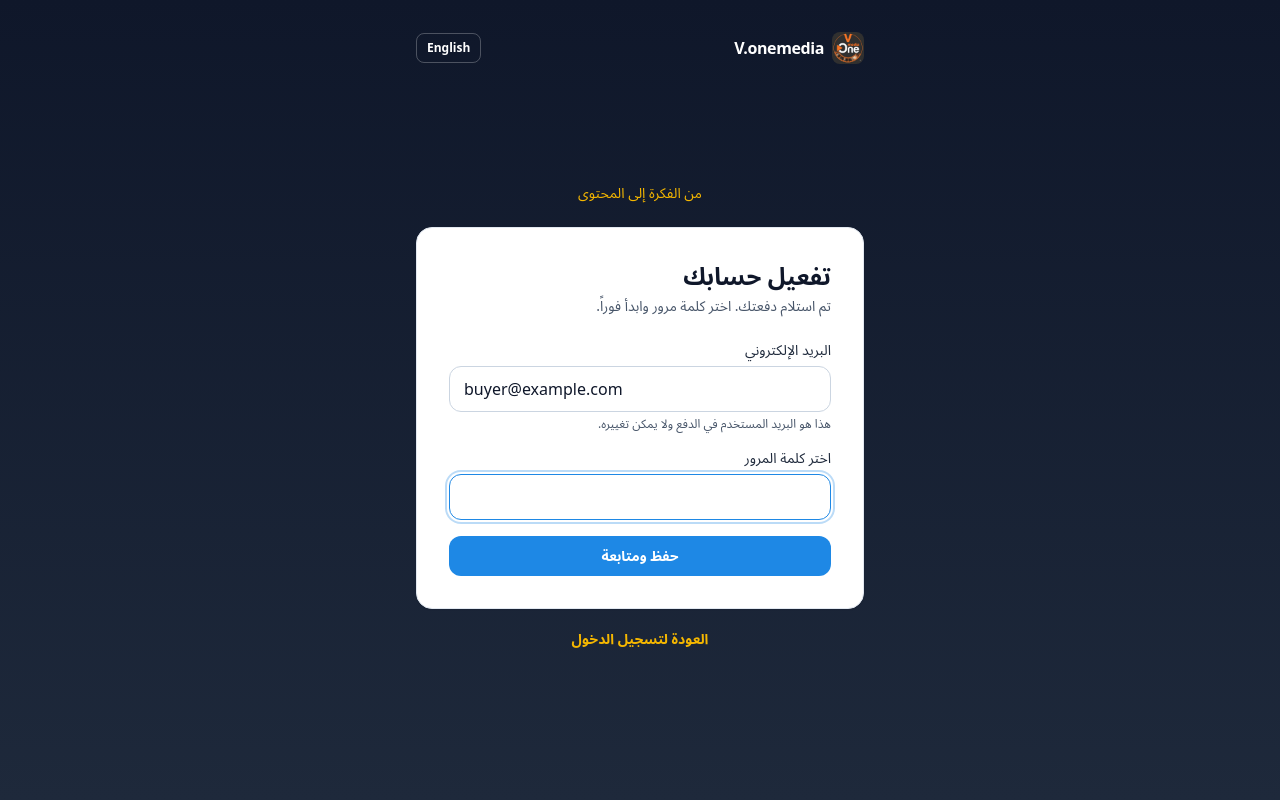
it: activation form › rejects a short password without spending the charge on a round trip
Step 1. Type "short" into the password field labelled "اختر كلمة المرور" → coordinates (640, 497), box [449, 474, 831, 520]
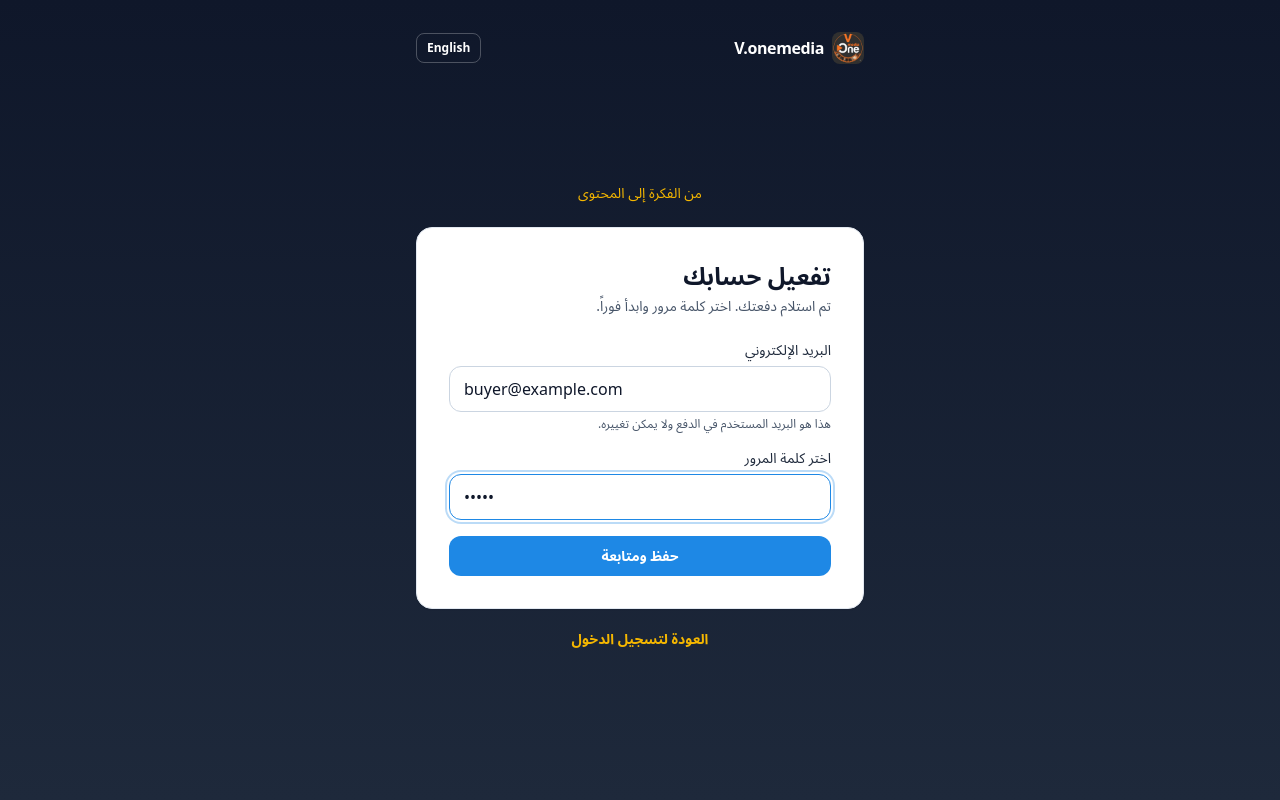
Step 2. Click the button "حفظ ومتابعة" → coordinates (640, 556), box [449, 536, 831, 576]
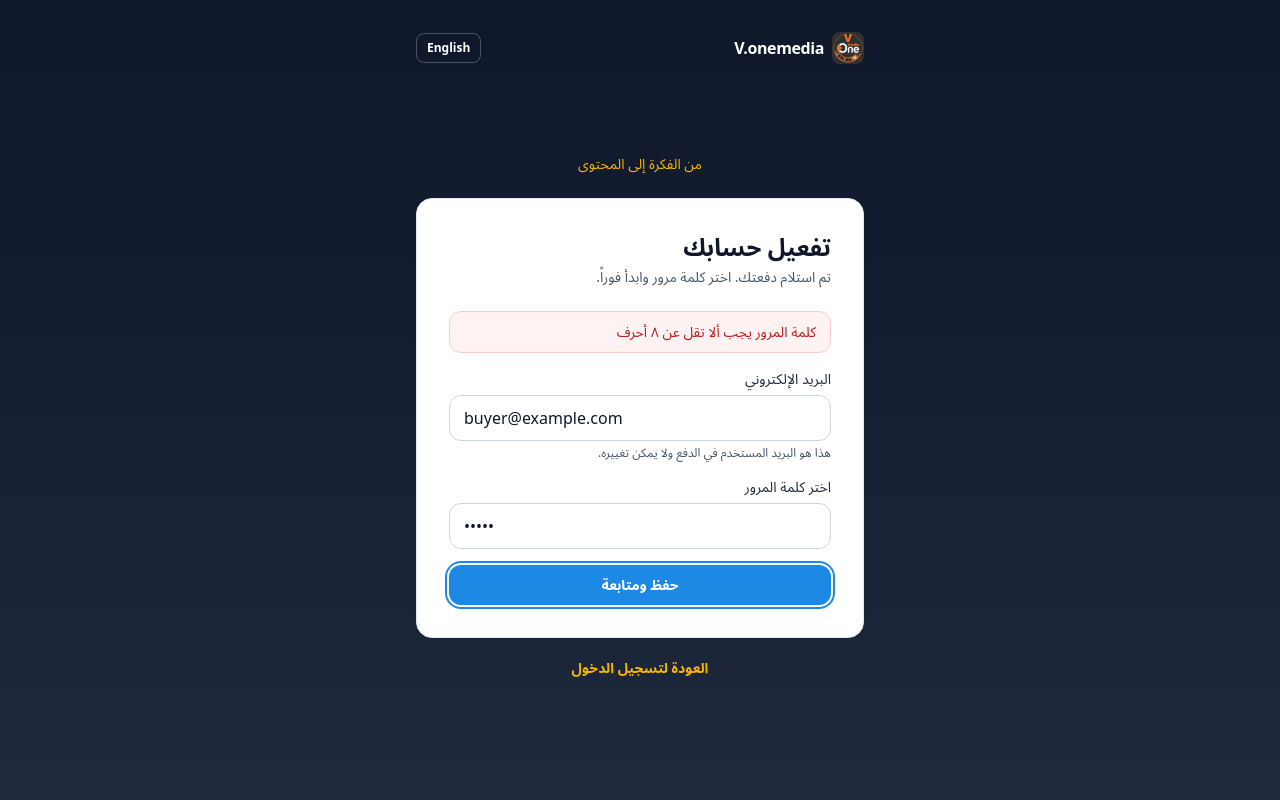
Expected: the message reads "كلمة المرور يجب ألا تقل عن ٨ أحرف", [617, 322, 816, 341]
